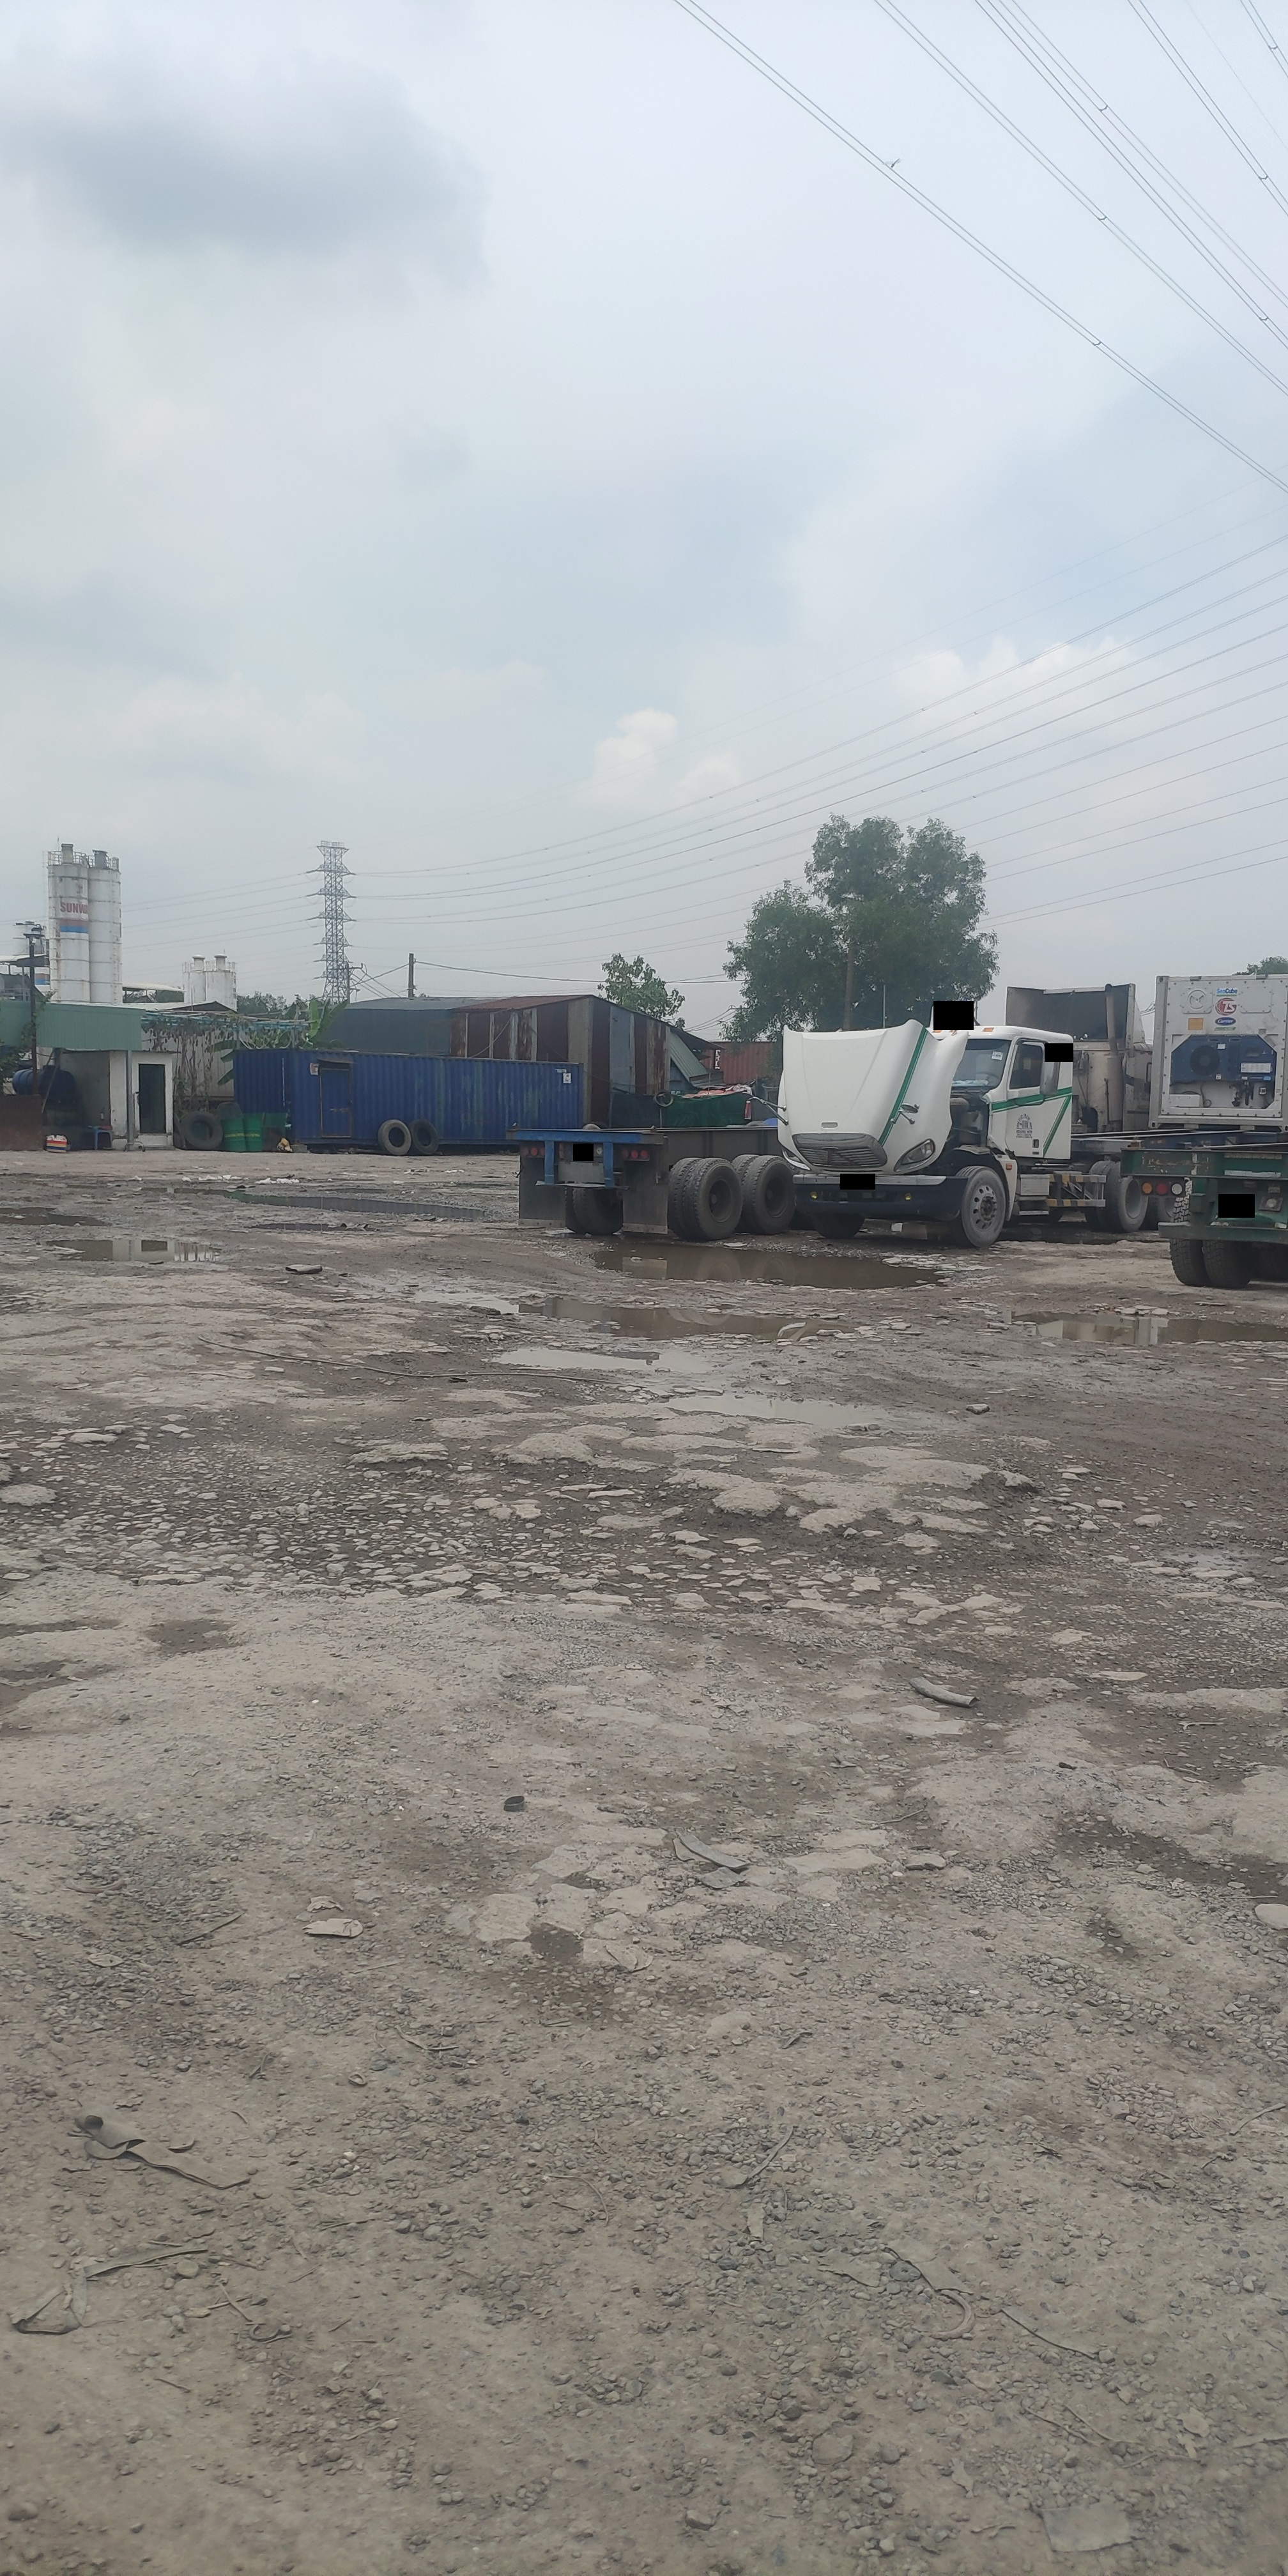hole: (0, 1424, 931, 1610), (495, 1293, 892, 1342), (582, 1242, 945, 1295), (651, 1380, 958, 1431), (131, 1180, 495, 1222), (997, 1303, 1288, 1354), (471, 1341, 721, 1377), (43, 1235, 227, 1267), (241, 1216, 381, 1240), (2, 1207, 115, 1230)
